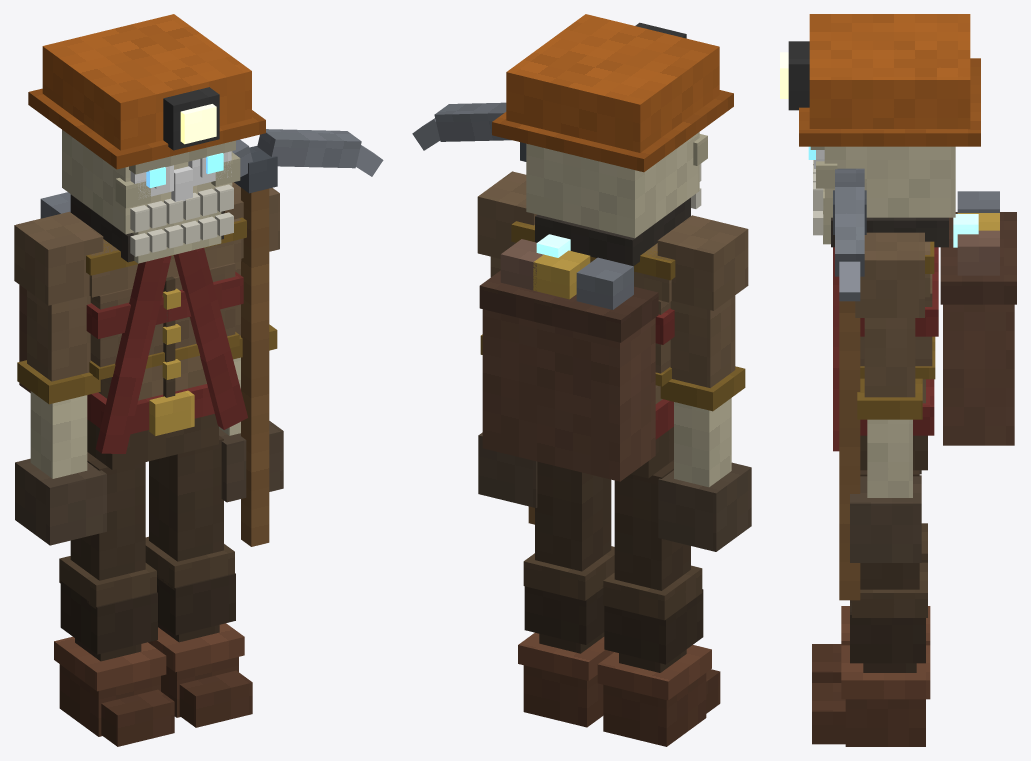
The model's file is undead_mineur_v2.glb.
The picture shows the model from 3 angles, left to right: view 1: azimuth 30°, elevation 25°; view 2: azimuth 150°, elevation 25°; view 3: azimuth 270°, elevation 25°; orthographic projection. The views are drawn at different scales.
Parts seen in each view (by area): view 1: Head, Torso, ArmR, LegR, LegL, HandL, ArmL; view 2: Torso, Head, ArmR, LegR, LegL, ArmL, HandL; view 3: Head, Torso, ArmL, LegL, HandL, LegR.
Boxes of the visible parts, x1,y1,x2,y2 form: Head: (28,14,265,263); Torso: (18,192,247,469); ArmR: (14,211,106,545); LegR: (54,452,174,746); LegL: (145,435,252,727); HandL: (232,129,383,546); ArmL: (219,182,283,502); Torso: (479,221,675,481); Head: (492,14,733,266); ArmR: (657,215,751,551); LegR: (597,460,720,746); LegL: (518,461,614,727); ArmL: (477,171,537,507); HandL: (412,102,534,524); Head: (780,14,980,247); Torso: (833,191,1016,470); ArmL: (850,232,924,562); LegL: (812,470,930,746); HandL: (833,168,866,600); LegR: (812,523,930,682).
Bounding box in the file's own units: 0.9237 × 1.73 × 0.56.
40 materials, 40 textured.
